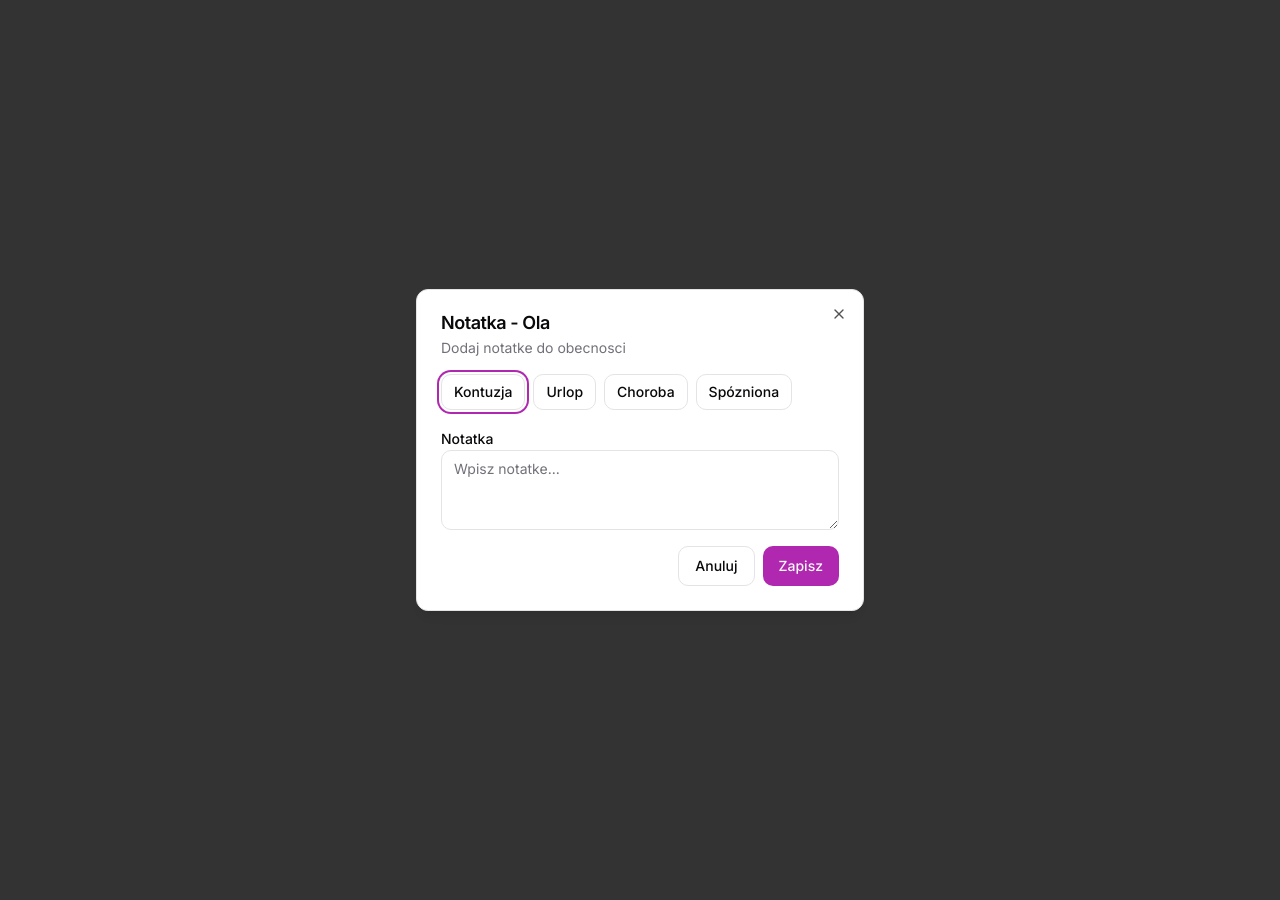
Test: NoteDialog › clicking quick note sets textarea value
Click the button "Urlop": (565,392) [534,374,596,410]
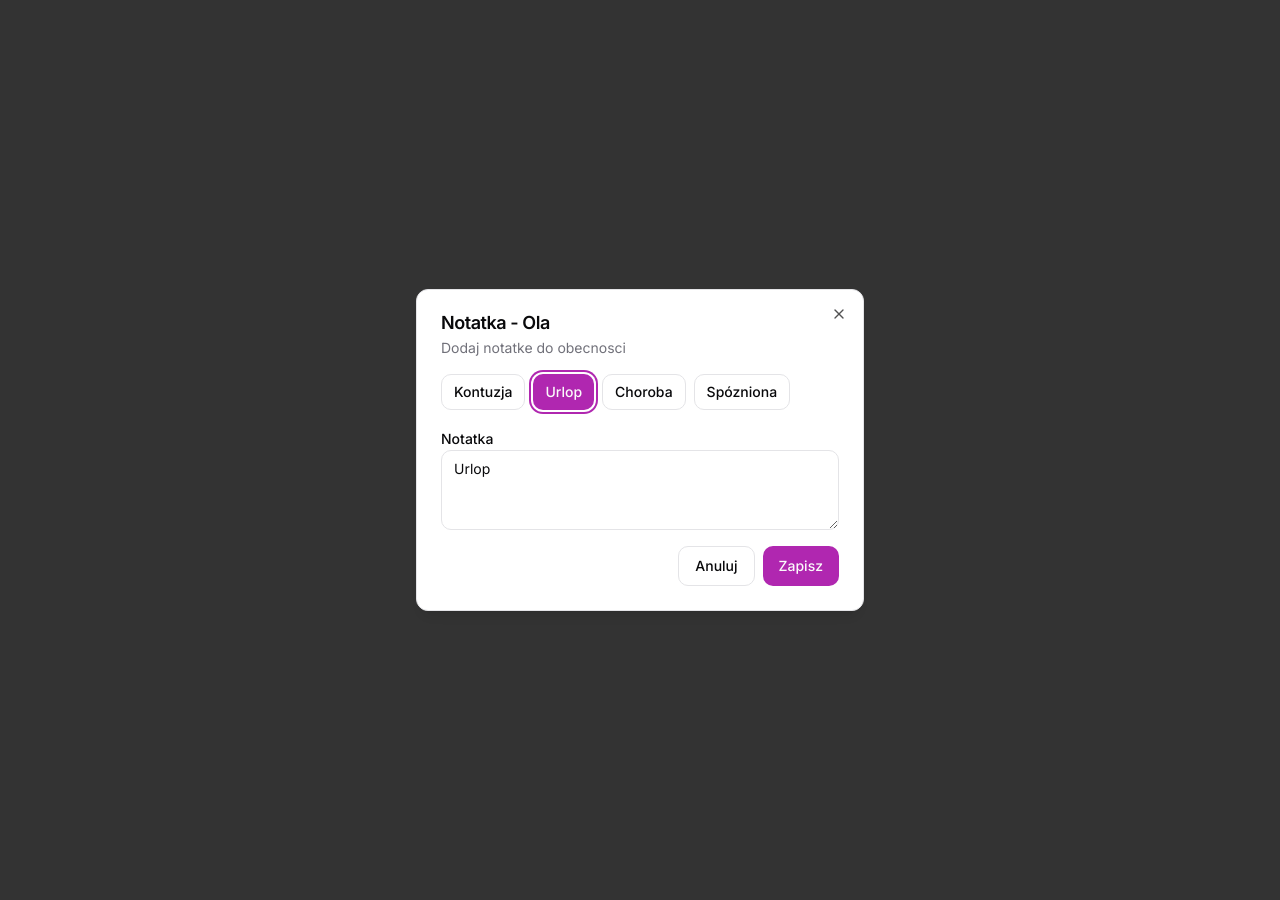
Expected: the text box showing "Urlop" is shown, [441,450,839,530]
